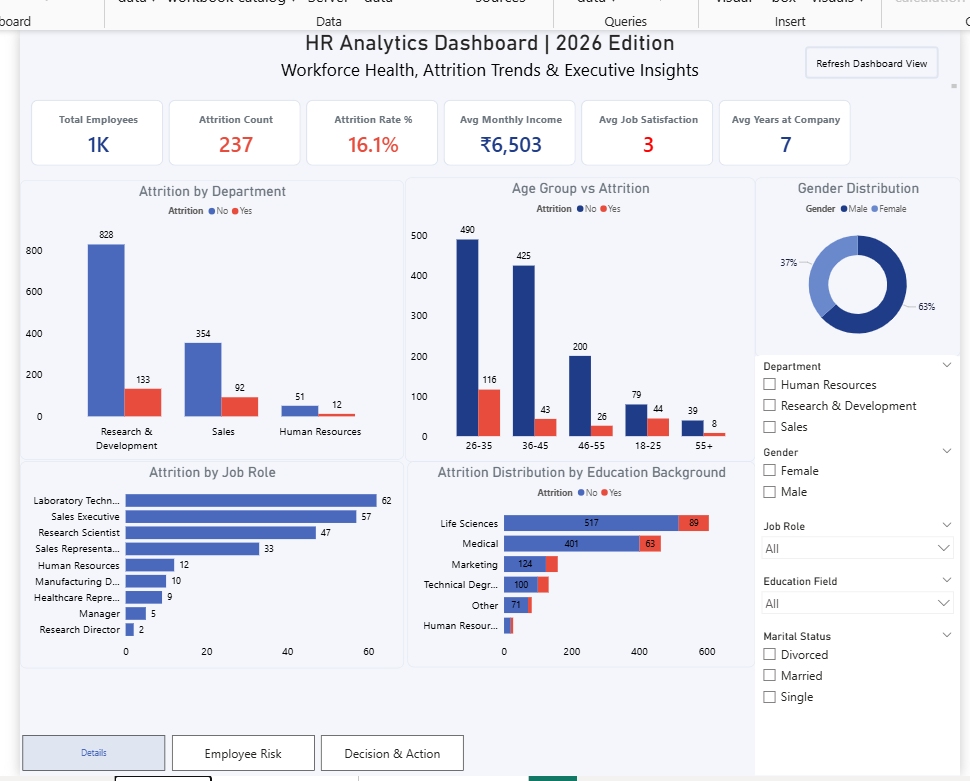

The dashboard page shown, as its layout file describes it:
{"tool":"powerbi","page":{"name":"Details","canvas":[1450,1150],"ordinal":0},"visuals":[{"type":"textbox","title":"HR Analytics Dashboard | 2026 Edition","box":[0,0,1449.1,94.4],"z":0},{"type":"cardVisual","fields":{"Data":["WA_Fn-UseC_-HR-Employee-Attrition.Total Employees","WA_Fn-UseC_-HR-Employee-Attrition.Attrition Count","WA_Fn-UseC_-HR-Employee-Attrition.Attrition Rate %","WA_Fn-UseC_-HR-Employee-Attrition.Avg Monthly Income","WA_Fn-UseC_-HR-Employee-Attrition.Avg Job Satisfaction","WA_Fn-UseC_-HR-Employee-Attrition.Avg Years at Company"]},"box":[0,90.3,1299.4,136.4],"z":1000},{"type":"clusteredColumnChart","title":"Attrition by Department","fields":{"Category":["WA_Fn-UseC_-HR-Employee-Attrition.Department"],"Series":["WA_Fn-UseC_-HR-Employee-Attrition.Attrition"],"Y":["CountNonNull(WA_Fn-UseC_-HR-Employee-Attrition.EmployeeNumber)"]},"box":[0,230.4,591.7,431.3],"z":2000},{"type":"clusteredBarChart","title":"Attrition by Job Role","fields":{"Y":["CountNonNull(WA_Fn-UseC_-HR-Employee-Attrition.EmployeeNumber)"],"Category":["WA_Fn-UseC_-HR-Employee-Attrition.JobRole"]},"box":[0,665.4,591.7,318.9],"z":3000},{"type":"donutChart","title":"Gender Distribution","fields":{"Y":["CountNonNull(WA_Fn-UseC_-HR-Employee-Attrition.EmployeeNumber)"],"Category":["WA_Fn-UseC_-HR-Employee-Attrition.Gender"]},"box":[1133.6,226.7,317,276.5],"z":4000},{"type":"clusteredColumnChart","title":"Age Group vs Attrition","fields":{"Series":["WA_Fn-UseC_-HR-Employee-Attrition.Attrition"],"Y":["CountNonNull(WA_Fn-UseC_-HR-Employee-Attrition.EmployeeNumber)"],"Category":["WA_Fn-UseC_-HR-Employee-Attrition.Age Group"]},"box":[593.5,226.7,540,438.7],"z":5000},{"type":"barChart","title":"Attrition Distribution by Education Background","fields":{"Y":["CountNonNull(WA_Fn-UseC_-HR-Employee-Attrition.EmployeeNumber)"],"Category":["WA_Fn-UseC_-HR-Employee-Attrition.EducationField"],"Series":["WA_Fn-UseC_-HR-Employee-Attrition.Attrition"]},"box":[597.4,664.8,535.7,317.9],"z":6000},{"type":"shape","box":[1133,501,316,647.5],"z":7000},{"type":"slicer","fields":{"Values":["WA_Fn-UseC_-HR-Employee-Attrition.Department"]},"box":[1133,502.9,316,133],"z":8000},{"type":"slicer","fields":{"Values":["WA_Fn-UseC_-HR-Employee-Attrition.Gender"]},"box":[1133,635.9,316,104.1],"z":9000},{"type":"slicer","fields":{"Values":["WA_Fn-UseC_-HR-Employee-Attrition.EducationField"]},"box":[1133,834.4,316,84.8],"z":10000},{"type":"slicer","fields":{"Values":["WA_Fn-UseC_-HR-Employee-Attrition.JobRole"]},"box":[1134,750,316,84.8],"z":11000},{"type":"slicer","fields":{"Values":["WA_Fn-UseC_-HR-Employee-Attrition.MaritalStatus"]},"box":[1133,919.2,316,229.3],"z":12000},{"type":"actionButton","box":[1210.1,25.1,206.2,50.1],"z":13000},{"type":"pageNavigator","box":[3.9,1086.8,682.1,55.9],"z":14000}]}

Visuals, with their boxes on the page's 1450x1150 design canvas (x1, y1, x2, y2). These are canvas units, not pixel positions in the 970x781 screenshot, which may show the page scaled, cropped or inside an application window:
"HR Analytics Dashboard | 2026 Edition" textbox: rect(0, 0, 1449, 94)
cardVisual - WA_Fn-UseC_-HR-Employee-Attrition.Total Employees x WA_Fn-UseC_-HR-Employee-Attrition.Attrition Count: rect(0, 90, 1299, 227)
"Attrition by Department" clusteredColumnChart: rect(0, 230, 592, 662)
"Attrition by Job Role" clusteredBarChart: rect(0, 665, 592, 984)
"Gender Distribution" donutChart: rect(1134, 227, 1451, 503)
"Age Group vs Attrition" clusteredColumnChart: rect(594, 227, 1134, 665)
"Attrition Distribution by Education Background" barChart: rect(597, 665, 1133, 983)
shape: rect(1133, 501, 1449, 1148)
slicer - WA_Fn-UseC_-HR-Employee-Attrition.Department: rect(1133, 503, 1449, 636)
slicer - WA_Fn-UseC_-HR-Employee-Attrition.Gender: rect(1133, 636, 1449, 740)
slicer - WA_Fn-UseC_-HR-Employee-Attrition.EducationField: rect(1133, 834, 1449, 919)
slicer - WA_Fn-UseC_-HR-Employee-Attrition.JobRole: rect(1134, 750, 1450, 835)
slicer - WA_Fn-UseC_-HR-Employee-Attrition.MaritalStatus: rect(1133, 919, 1449, 1148)
actionButton: rect(1210, 25, 1416, 75)
pageNavigator: rect(4, 1087, 686, 1143)
